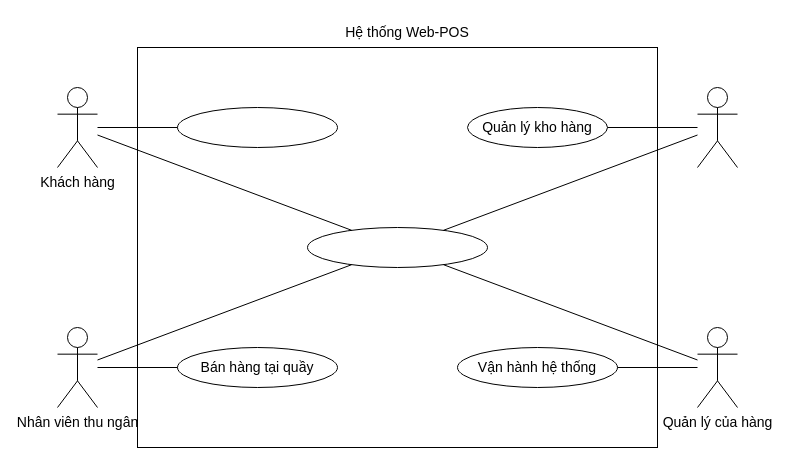
This 790x465 diagram has some shape labels left out. Each missing label, with the box of its shape:
Mua hàng trực tuyến: (176, 106, 338, 148)
Nhân viên kho: (696, 86, 738, 168)
Đăng nhập/Đăng xuất: (306, 226, 488, 268)
